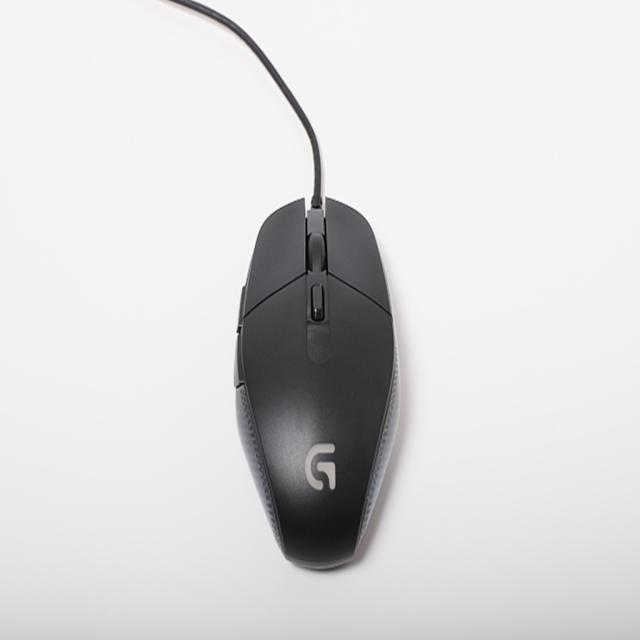Computer-mouse: (236, 193, 399, 567)
